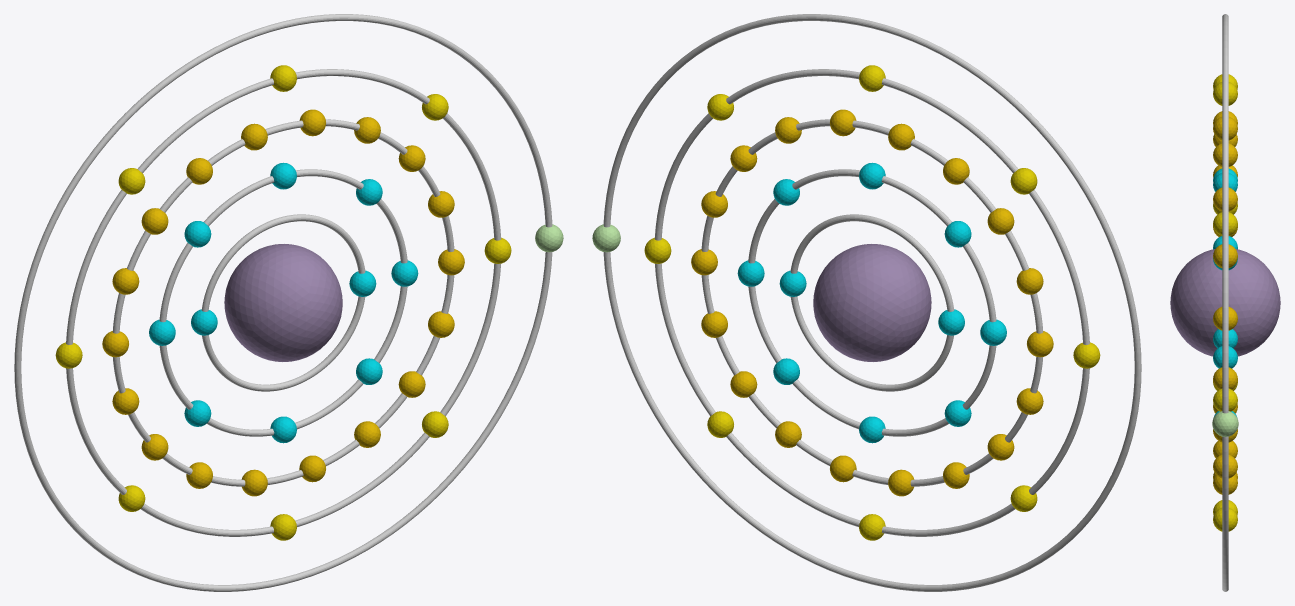
The picture shows the model from 3 angles, left to right: view 1: azimuth 30°, elevation 25°; view 2: azimuth 150°, elevation 25°; view 3: azimuth 270°, elevation 25°; orthographic projection. The views are drawn at different scales.
Parts seen in each view (by area): view 1: Camada_5, Nucleo_Rb, Camada_4, Camada_3, Camada_2, Camada_1; view 2: Camada_5, Nucleo_Rb, Camada_4, Camada_3, Camada_2, Camada_1; view 3: Nucleo_Rb, Camada_5, e5_1, e4_3, e3_4, e3_5, e4_2, e3_17, e3_2, e3_3, e3_6, e4_8 (+9 smaller).
Part boxes in pixels (left/top/right/bottom): Camada_5: left=14, top=14, right=552, bottom=591; Nucleo_Rb: left=224, top=244, right=342, bottom=361; Camada_4: left=66, top=69, right=501, bottom=536; Camada_3: left=112, top=119, right=454, bottom=486; Camada_2: left=159, top=169, right=407, bottom=436; Camada_1: left=201, top=214, right=365, bottom=391; Camada_5: left=603, top=14, right=1141, bottom=591; Nucleo_Rb: left=813, top=244, right=931, bottom=361; Camada_4: left=654, top=69, right=1089, bottom=536; Camada_3: left=701, top=119, right=1043, bottom=486; Camada_2: left=748, top=169, right=996, bottom=436; Camada_1: left=790, top=214, right=954, bottom=391; Nucleo_Rb: left=1170, top=249, right=1280, bottom=356; Camada_5: left=1222, top=14, right=1228, bottom=591; e5_1: left=1212, top=411, right=1238, bottom=436; e4_3: left=1213, top=82, right=1237, bottom=105; e3_4: left=1213, top=187, right=1237, bottom=211; e3_5: left=1213, top=143, right=1237, bottom=166; e4_2: left=1213, top=212, right=1237, bottom=235; e3_17: left=1213, top=454, right=1237, bottom=478; e3_2: left=1213, top=307, right=1237, bottom=330; e3_3: left=1213, top=244, right=1237, bottom=267; e3_6: left=1213, top=117, right=1237, bottom=140; e4_8: left=1213, top=508, right=1237, bottom=531.
Size of the model in its own units: 2.35 by 2.31 by 0.44.
